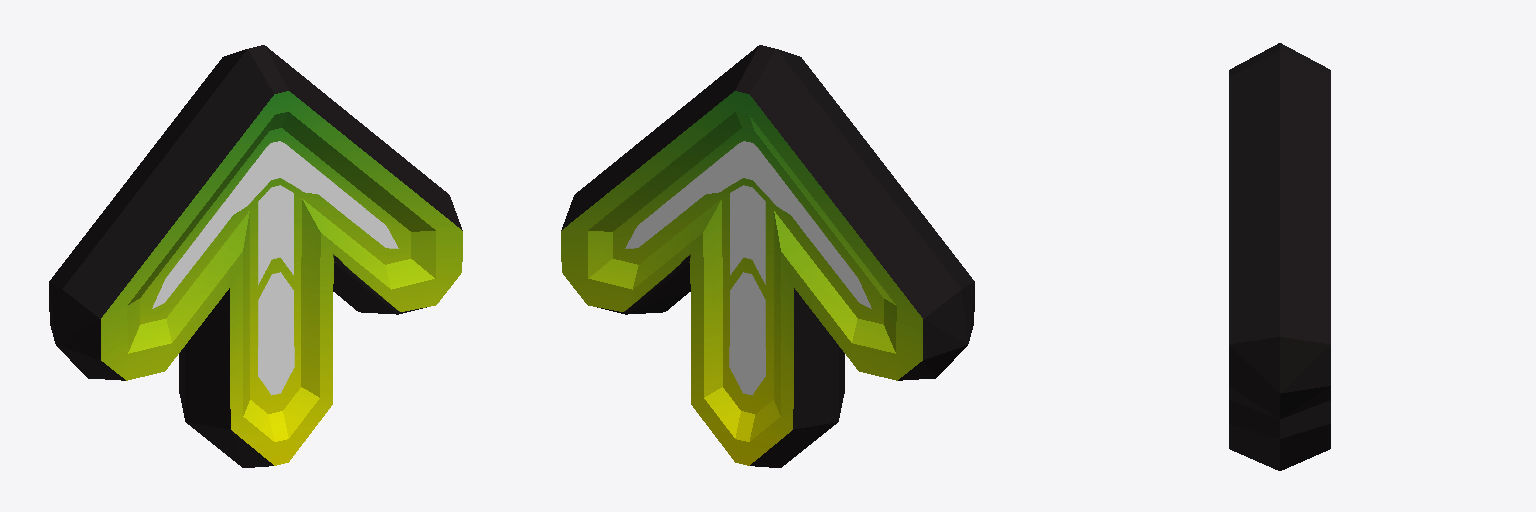
3 renders of one model, left to right at view 1: azimuth 30°, elevation 25°; view 2: azimuth 150°, elevation 25°; view 3: azimuth 270°, elevation 25°, orthographic.
Parts seen in each view (by area): view 1: Cube; view 2: Cube; view 3: Cube.
Part boxes in pixels (x1,y1,x2,y2): Cube: (49, 45, 462, 467); Cube: (561, 45, 974, 467); Cube: (1229, 43, 1330, 470).
Bounding box in the file's own units: 2.1 × 2.09 × 0.4666.
1 materials, 1 textured.